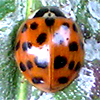Red: (14, 6, 84, 91)
